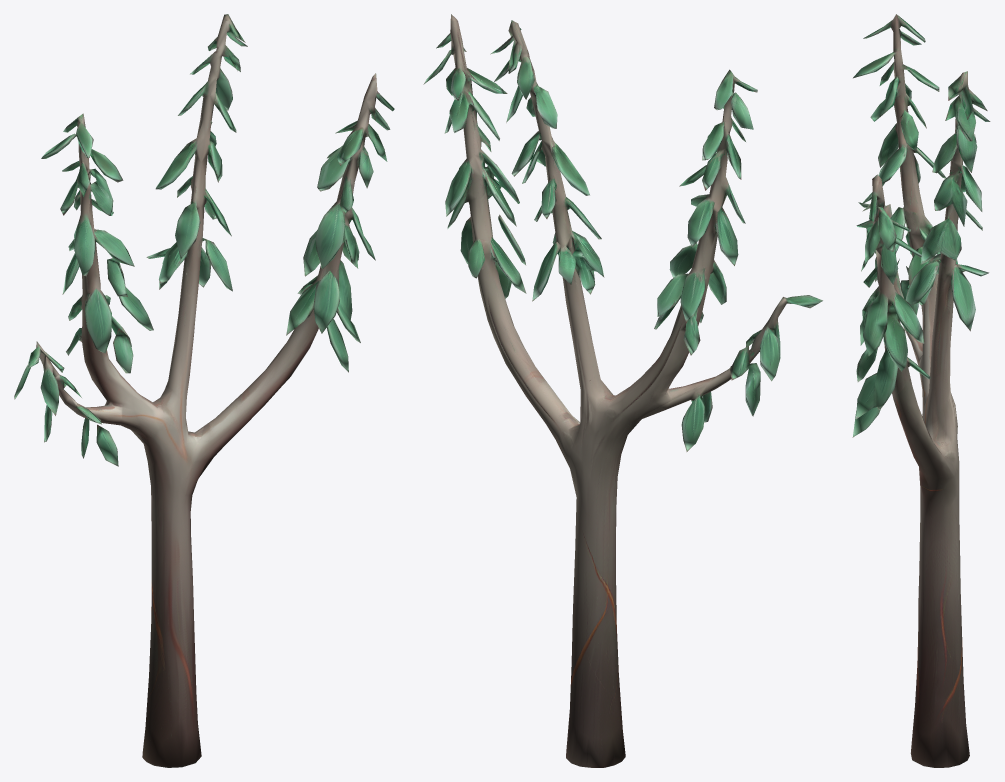
3 views of the same model, side by side, from view 1: azimuth 30°, elevation 25°; view 2: azimuth 150°, elevation 25°; view 3: azimuth 270°, elevation 25° (orthographic).
Parts seen in each view (by area): view 1: Mesh_0; view 2: Mesh_0; view 3: Mesh_0.
Boxes of the visible parts, <box> form: Mesh_0: <box>14,14,394,767</box>; Mesh_0: <box>423,14,822,767</box>; Mesh_0: <box>852,14,990,767</box>.
Bounding box in the file's own units: 1.05 × 1.91 × 0.3334.
Materials: 1 (1 with a texture image).
